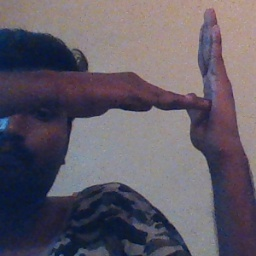Z: (134, 7, 247, 159)
